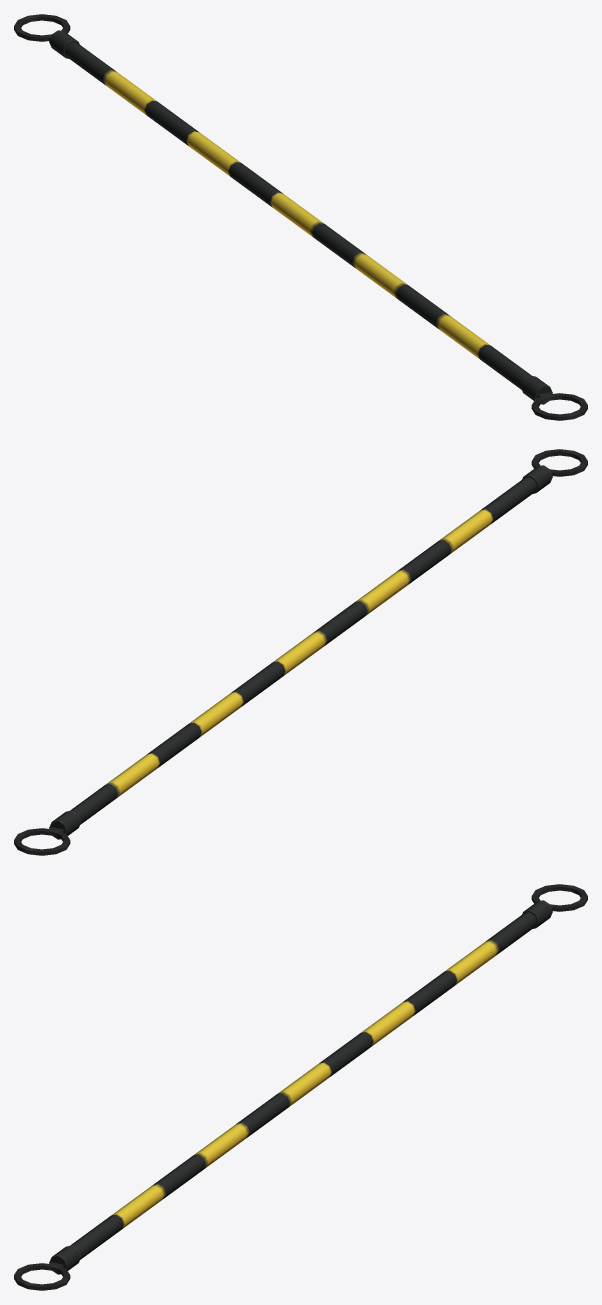
The model's file is jsf_CornBar200cm.fbx.
3 views of the same model, one above another, from view 1: azimuth 30°, elevation 25°; view 2: azimuth 150°, elevation 25°; view 3: azimuth 330°, elevation 25° (orthographic).
Parts seen in each view (by area): view 1: jsf_CornBar200cm; view 2: jsf_CornBar200cm; view 3: jsf_CornBar200cm.
Part boxes in pixels (x1,y1,x2,y2): jsf_CornBar200cm: [14, 14, 587, 420]; jsf_CornBar200cm: [14, 449, 587, 855]; jsf_CornBar200cm: [14, 884, 587, 1290].
Bounding box in the file's own units: 10.87 × 4.04 × 211.
